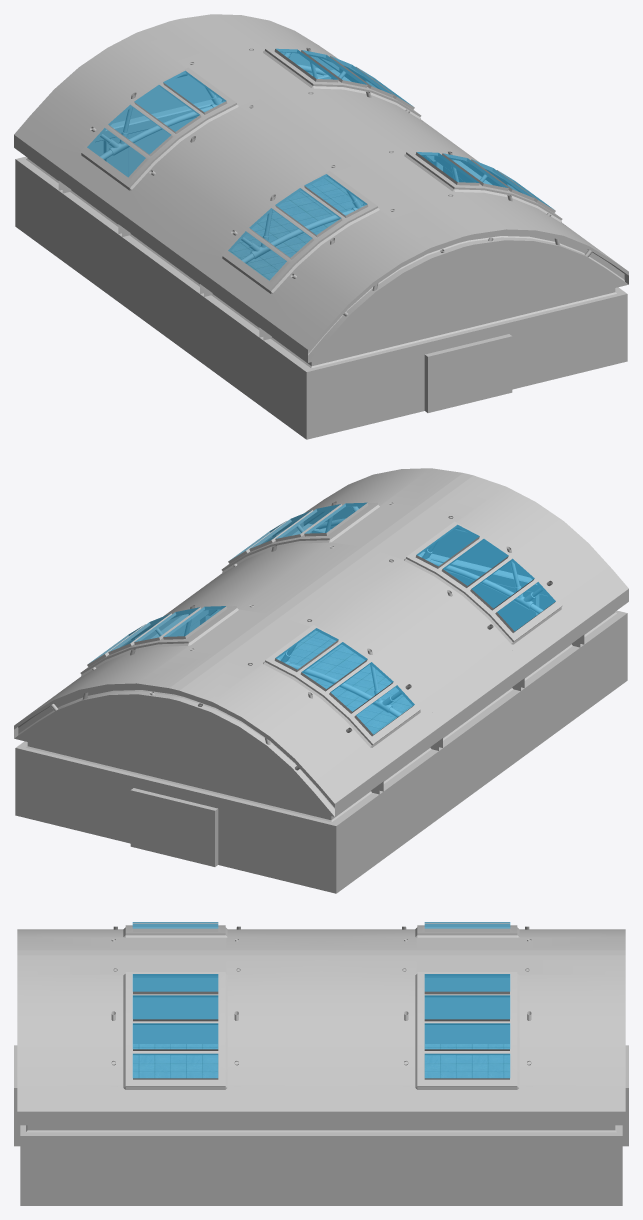
Rendered from model_warehouse.fbx.
3 views of the same model, one above another, from view 1: azimuth 30°, elevation 25°; view 2: azimuth 150°, elevation 25°; view 3: azimuth 270°, elevation 25° (orthographic). The views are drawn at different scales.
Visible parts, largest first — view 1: warehouse_main, warehouse_glass, warehouse_floor; view 2: warehouse_main, warehouse_glass, warehouse_floor; view 3: warehouse_main, warehouse_glass, warehouse_floor.
Boxes of the visible parts, x1=… form: warehouse_main: x1=14, y1=14, x2=628, y2=439; warehouse_glass: x1=87, y1=48, x2=552, y2=280; warehouse_floor: x1=230, y1=176, x2=363, y2=280; warehouse_main: x1=14, y1=468, x2=628, y2=893; warehouse_glass: x1=90, y1=502, x2=555, y2=734; warehouse_floor: x1=279, y1=630, x2=412, y2=734; warehouse_main: x1=14, y1=922, x2=628, y2=1205; warehouse_glass: x1=132, y1=922, x2=510, y2=1078; warehouse_floor: x1=133, y1=1044, x2=509, y2=1078.
Size of what is drawn, in the model's own units: 14 by 6.99 by 22.47.
